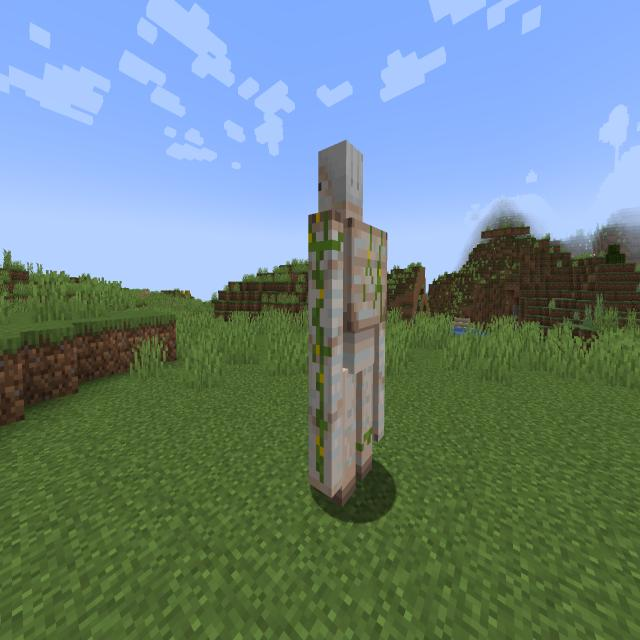iron golem: (299, 129, 403, 519)
